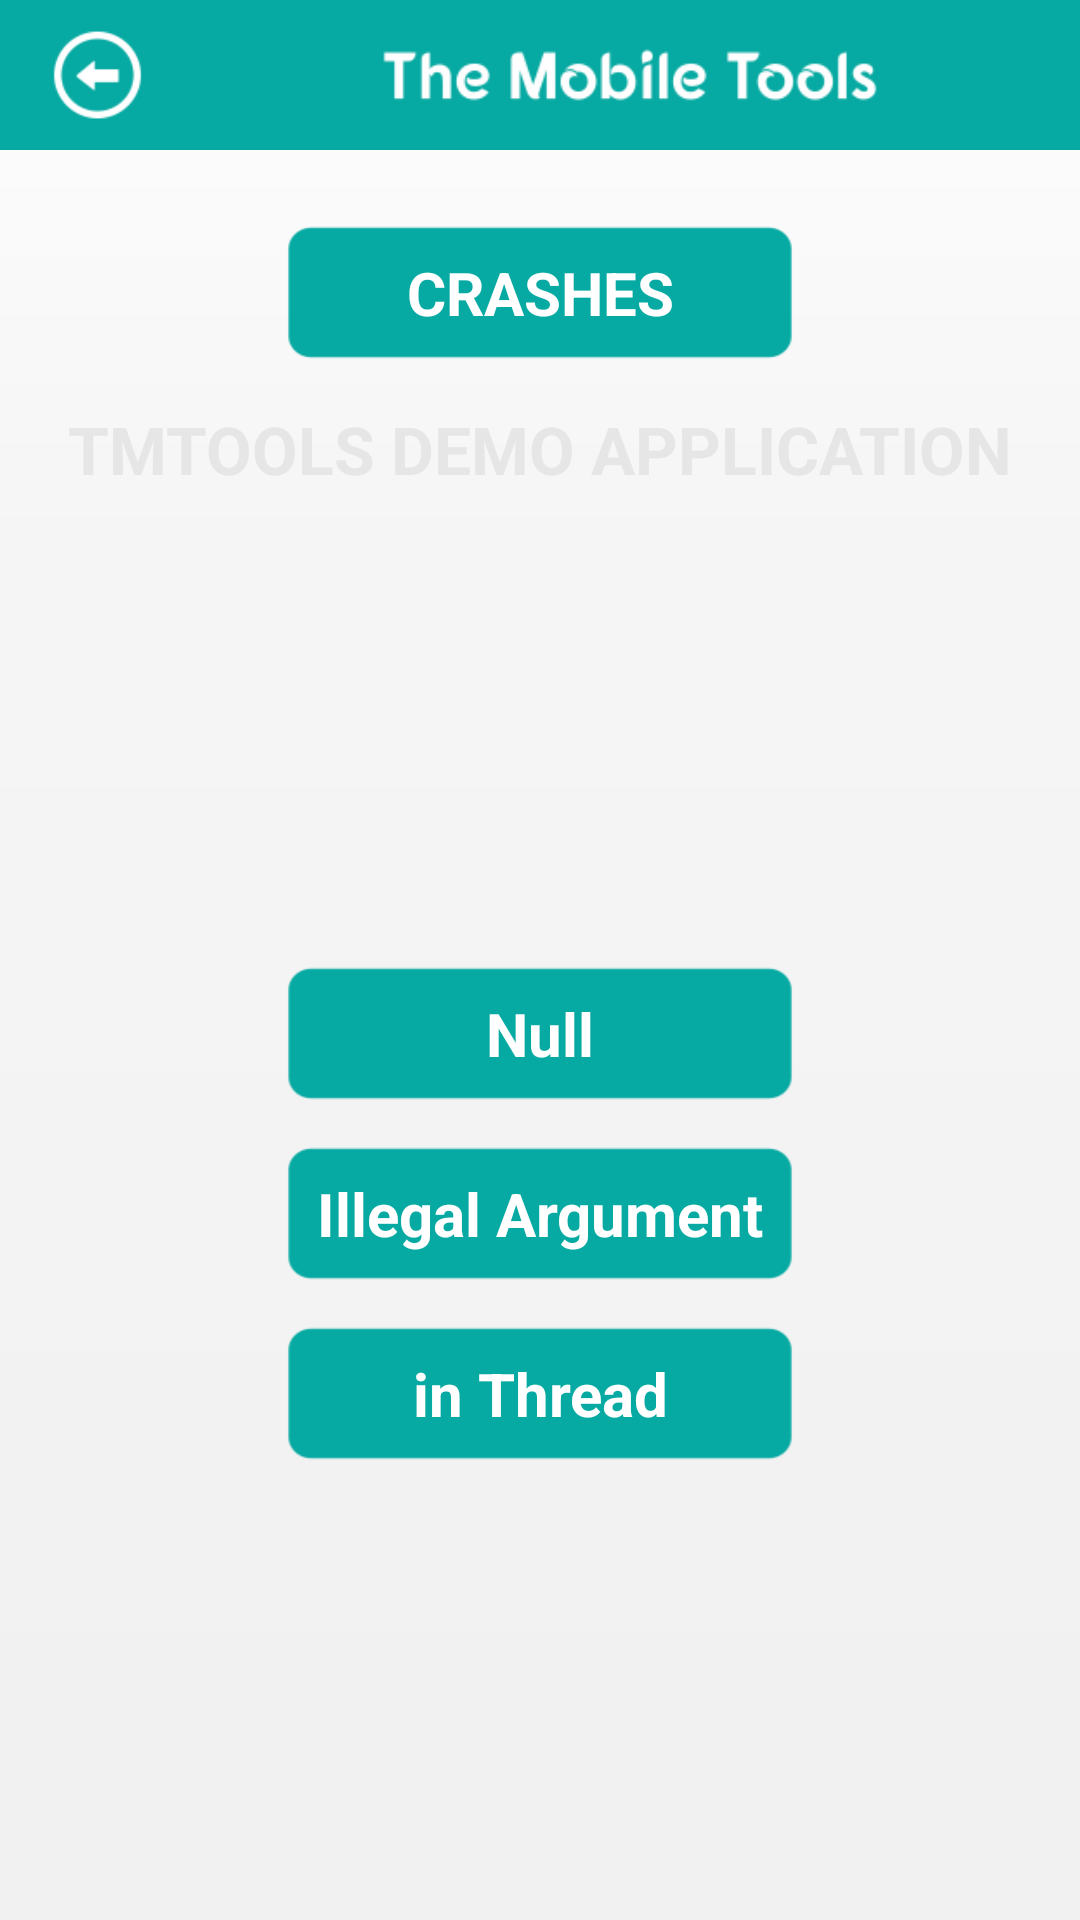

Icon bounding boxes for this 1080px x 1920px phone screenshot, format (x1, y1, x2, y2):
back: (53, 31, 142, 119)
